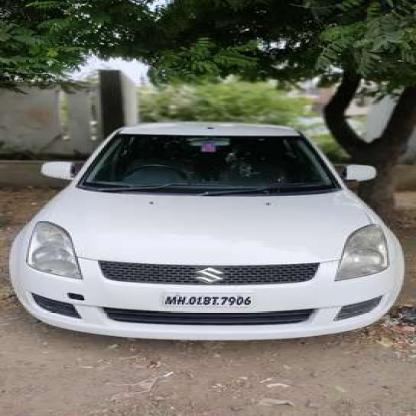license_plate: (160, 291, 258, 306)
